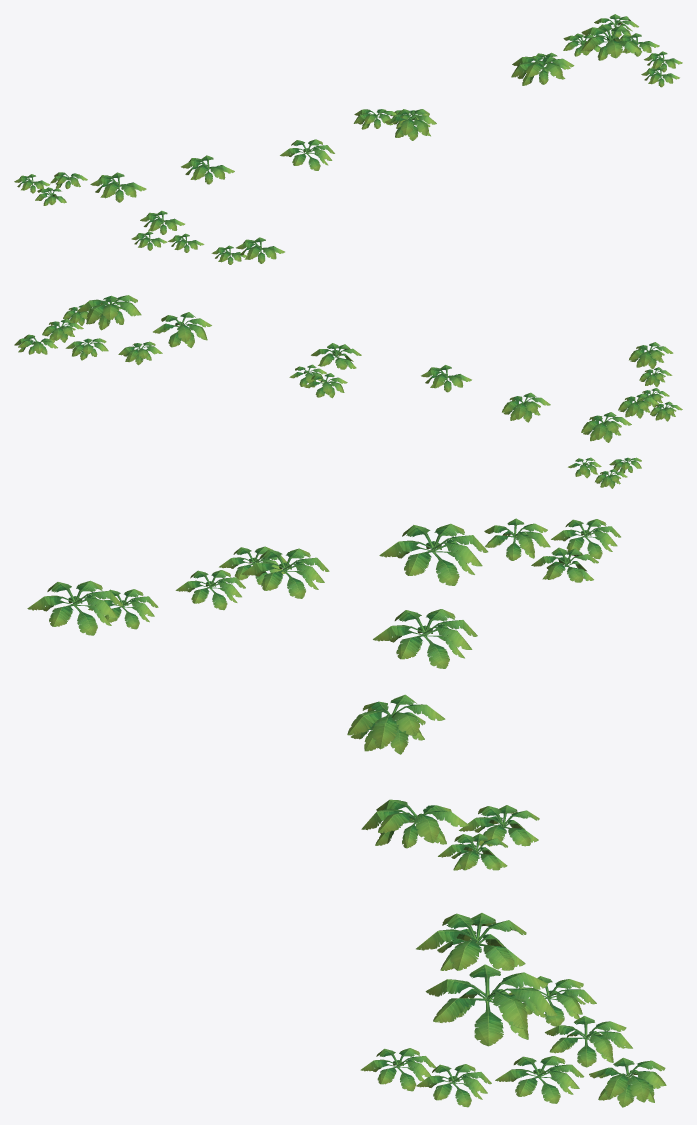
File: bajiaoshu01.fbx
3 renders of one model, top to bottom at view 1: azimuth 30°, elevation 25°; view 2: azimuth 150°, elevation 25°; view 3: azimuth 270°, elevation 25°, orthographic. The views are drawn at different scales.
Parts seen in each view (by area): view 1: bajiaoshu01; view 2: bajiaoshu01; view 3: bajiaoshu01.
Boxes of the visible parts, x1,y1,x2,y2 form: bajiaoshu01: [14, 14, 682, 264]; bajiaoshu01: [14, 295, 682, 488]; bajiaoshu01: [27, 518, 666, 1107].
Bounding box in the file's own units: 10535 × 703 × 4917.
1 material, 1 textured.
